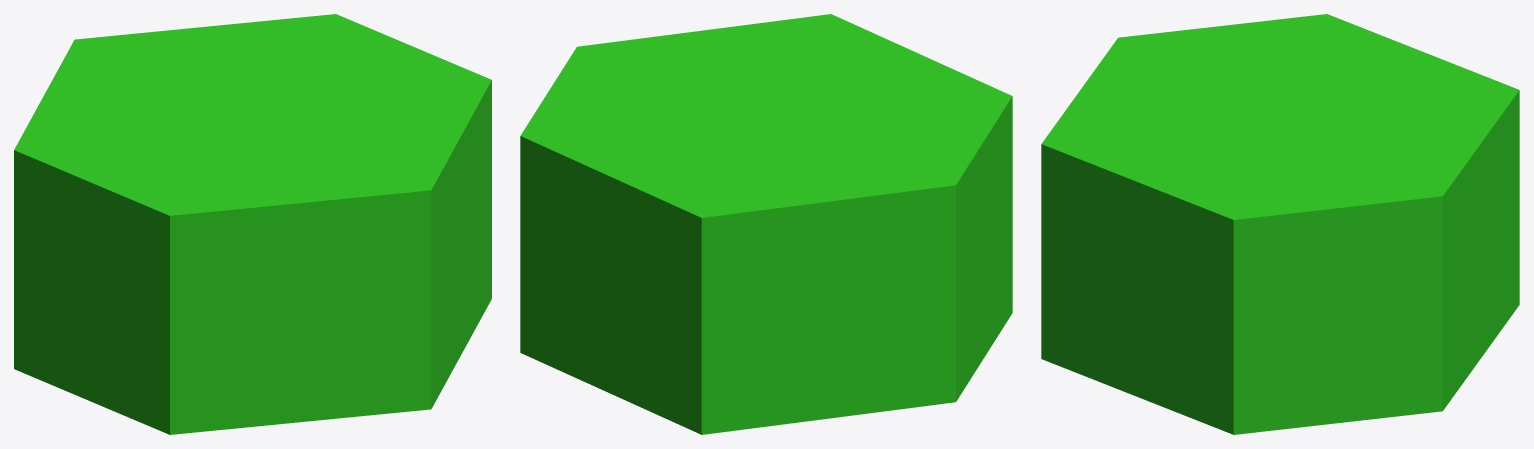
File: NormalContent.fbx
3 renders of one model, left to right at view 1: azimuth 30°, elevation 25°; view 2: azimuth 150°, elevation 25°; view 3: azimuth 270°, elevation 25°, orthographic.
Visible parts, largest first — view 1: Model; view 2: Model; view 3: Model.
Boxes of the visible parts, x1,y1,x2,y2 form: Model: [14, 14, 491, 434]; Model: [520, 14, 1012, 434]; Model: [1041, 14, 1519, 434].
Size of what is drawn, in the model's own units: 0.6332 by 0.308 by 0.6211.
